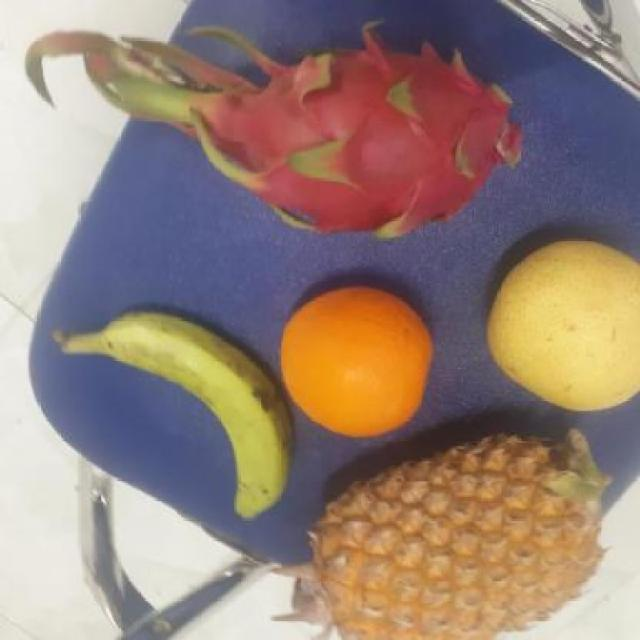banana: (98, 314, 304, 518)
dragon fruit: (190, 42, 542, 240)
guava: (487, 236, 639, 412)
pear: (274, 288, 438, 437)
pineapple: (316, 416, 610, 639)
